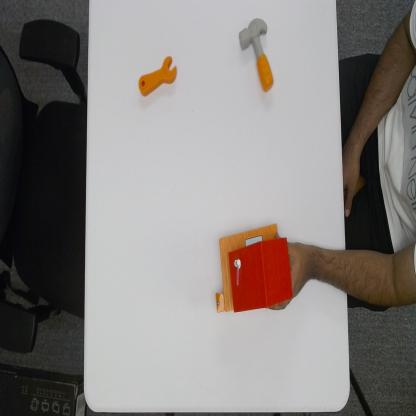Arm: (315, 239, 416, 311)
Hammer: (237, 16, 278, 94)
House: (214, 220, 295, 317)
Screwdriver: (138, 55, 178, 97)
